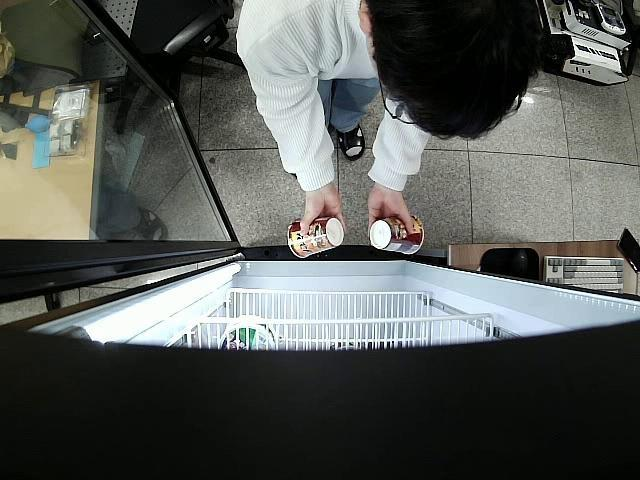06_nuguri_S: (286, 216, 344, 260), (369, 211, 425, 255)
